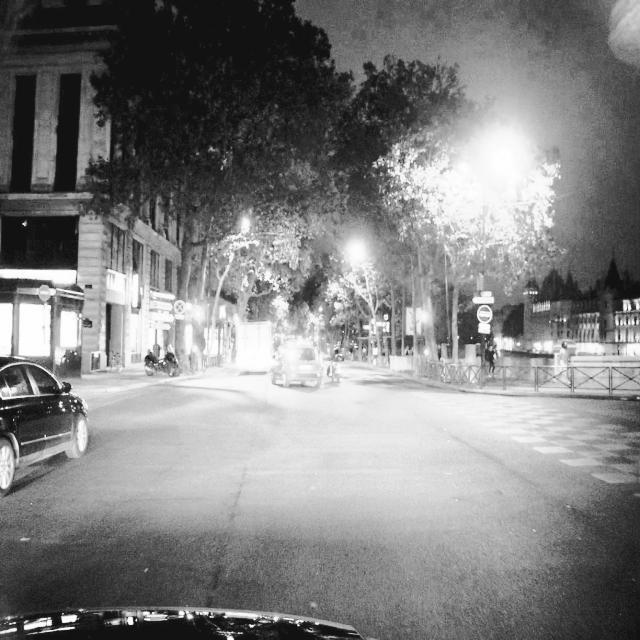Truck: (237, 322, 273, 373)
